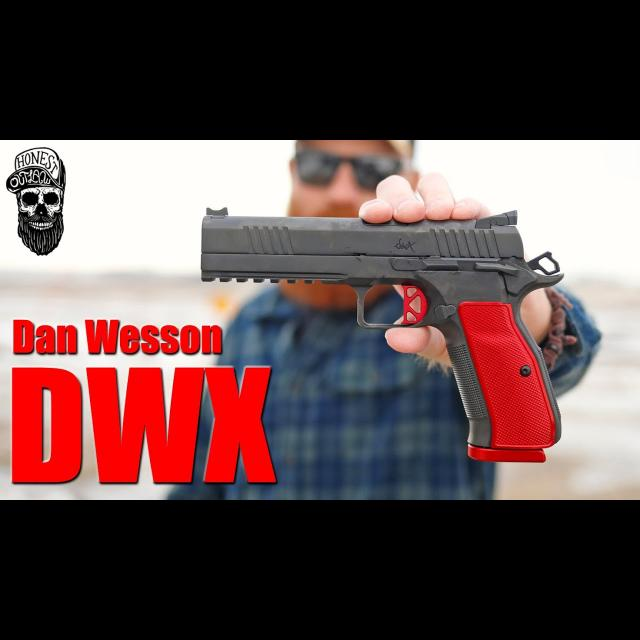handgun: (198, 200, 568, 470)
